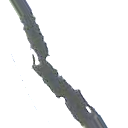crackTip: (9, 1, 112, 128)
